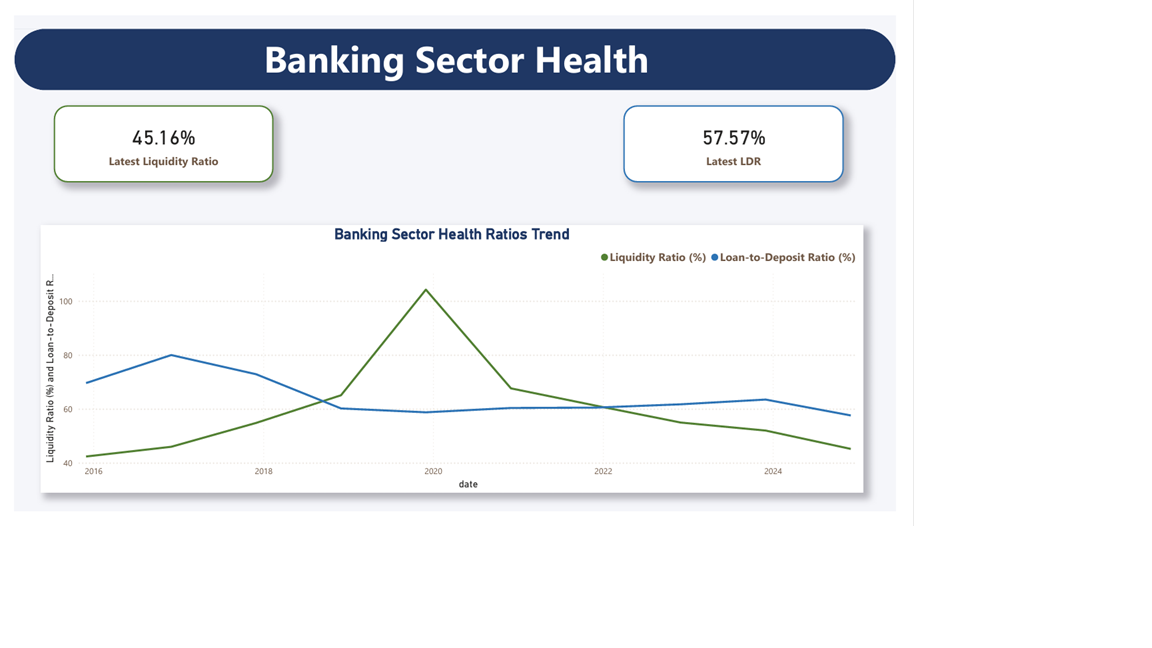

The page's visual inventory and layout, read from the dashboard file:
{"tool":"powerbi","page":{"name":"Banking Sector Health","canvas":[1280,720],"ordinal":4},"visuals":[{"type":"card","fields":{"Values":["cbn_banking_ratios_clean.Latest Liquidity Ratio"]},"box":[56.7,130.4,319.4,111.5],"z":0},{"type":"card","fields":{"Values":["cbn_banking_ratios_clean.Latest LDR"]},"box":[884.4,130.4,319.4,111.5],"z":1000},{"type":"lineChart","title":"Banking Sector Health Ratios Trend","fields":{"Category":["cbn_banking_ratios_clean.date"],"Y":["Avg(cbn_banking_ratios_clean.liquidity_ratio)","Avg(cbn_banking_ratios_clean.loan_to_deposit_ratio)"]},"box":[37.8,304.3,1194.3,387.4],"z":2000},{"type":"shape","box":[0,18.9,1279.4,88.8],"z":3000},{"type":"textbox","box":[37.8,18.9,1207.6,88.8],"z":4000}]}

Visuals, with their boxes in screenshot pixels (x1, y1, x2, y2), scaled from the page's 1280x720 canvas onto the 1152x648 screenshot:
card - cbn_banking_ratios_clean.Latest Liquidity Ratio: Rect(51, 117, 338, 218)
card - cbn_banking_ratios_clean.Latest LDR: Rect(796, 117, 1083, 218)
"Banking Sector Health Ratios Trend" lineChart: Rect(34, 274, 1109, 623)
shape: Rect(0, 17, 1151, 97)
textbox: Rect(34, 17, 1121, 97)
